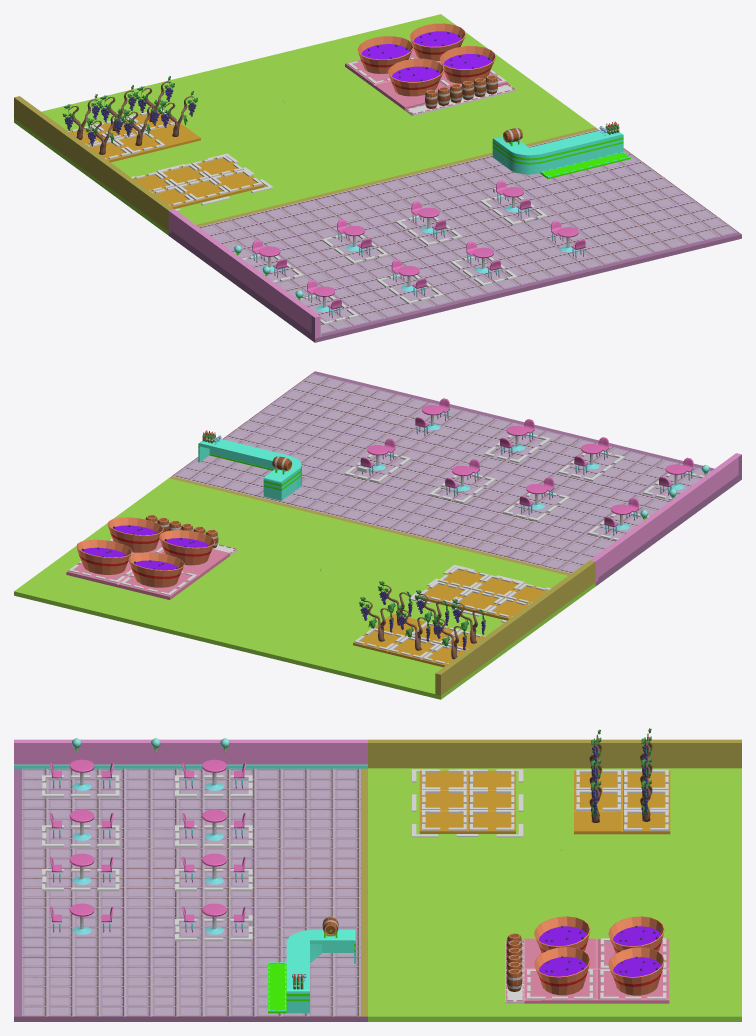
The model's file is OYUN ALANI 2 .fbx.
3 views of the same model, one above another, from view 1: azimuth 30°, elevation 25°; view 2: azimuth 150°, elevation 25°; view 3: azimuth 270°, elevation 25° (orthographic). The views are drawn at different scales.
Parts seen in each view (by area): view 1: Cube, Cube.008, Cube.006, Cube.001, Cube.007, Plane.003, Plane.004, Plane.001, Plane.002, Cube.002, Cube.017, Cube.010 (+8 smaller); view 2: Cube, Cube.008, Cube.001, Cube.006, Cube.007, Cube.002, Plane.001, Plane.002, Plane.003, Plane.004, Cube.014, Cube.004 (+6 smaller); view 3: Cube, Cube.008, Cube.001, Cube.007, Cube.002, Cube.006, Plane.002, Plane.004, Plane.001, Plane.003, Cube.017, Cube.027 (+15 smaller).
Boxes of the visible parts, x1,y1,x2,y2 form: Cube: (168, 127, 741, 342); Cube.008: (14, 14, 594, 235); Cube.006: (492, 129, 623, 174); Cube.001: (133, 158, 264, 208); Cube.007: (70, 111, 200, 162); Plane.003: (388, 58, 444, 96); Plane.004: (440, 46, 495, 83); Plane.001: (357, 36, 413, 73); Plane.002: (410, 23, 465, 60); Cube.002: (345, 48, 508, 110); Cube.017: (540, 152, 630, 178); Cube.010: (391, 259, 426, 297); Cube: (169, 371, 741, 586); Cube.008: (14, 478, 595, 699); Cube.001: (419, 569, 548, 620); Cube.006: (198, 439, 301, 500); Cube.007: (353, 614, 484, 667); Cube.002: (66, 539, 229, 599); Plane.001: (128, 552, 184, 587); Plane.002: (76, 539, 132, 574); Plane.003: (159, 530, 215, 565); Plane.004: (107, 517, 163, 552); Cube.014: (519, 477, 554, 514); Cube.004: (500, 419, 534, 456); Cube: (14, 739, 367, 1021); Cube.008: (368, 739, 741, 1021); Cube.001: (419, 770, 515, 833); Cube.007: (574, 770, 670, 834); Cube.002: (524, 938, 669, 1003); Cube.006: (286, 930, 355, 1013); Plane.002: (608, 947, 664, 995); Plane.004: (534, 947, 590, 995); Plane.001: (608, 916, 664, 953); Plane.003: (534, 916, 590, 953); Cube.017: (268, 962, 286, 1013); Cube.027: (411, 769, 523, 837).
Bounding box in the file's own units: 9144 × 957 × 11162.
